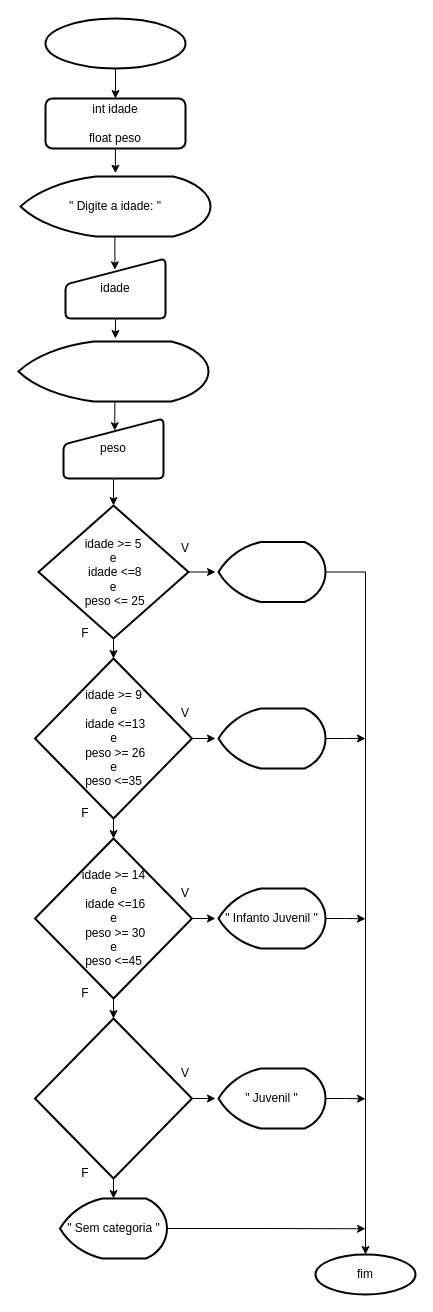
The diagram is 433 pixels wide and 1312 high, and some of its shapes have lost their labels. Here are the shapes that lost their labels. From the top down, the box of each, then its label:
(44, 17, 186, 69): Inicio
(17, 340, 209, 402): " Digite o peso: "
(217, 540, 326, 602): " Infantil "
(217, 707, 326, 769): " Mirim "
(34, 1017, 192, 1179): idade >= 17 e idade <=22 e peso >= 45 e peso <=60
